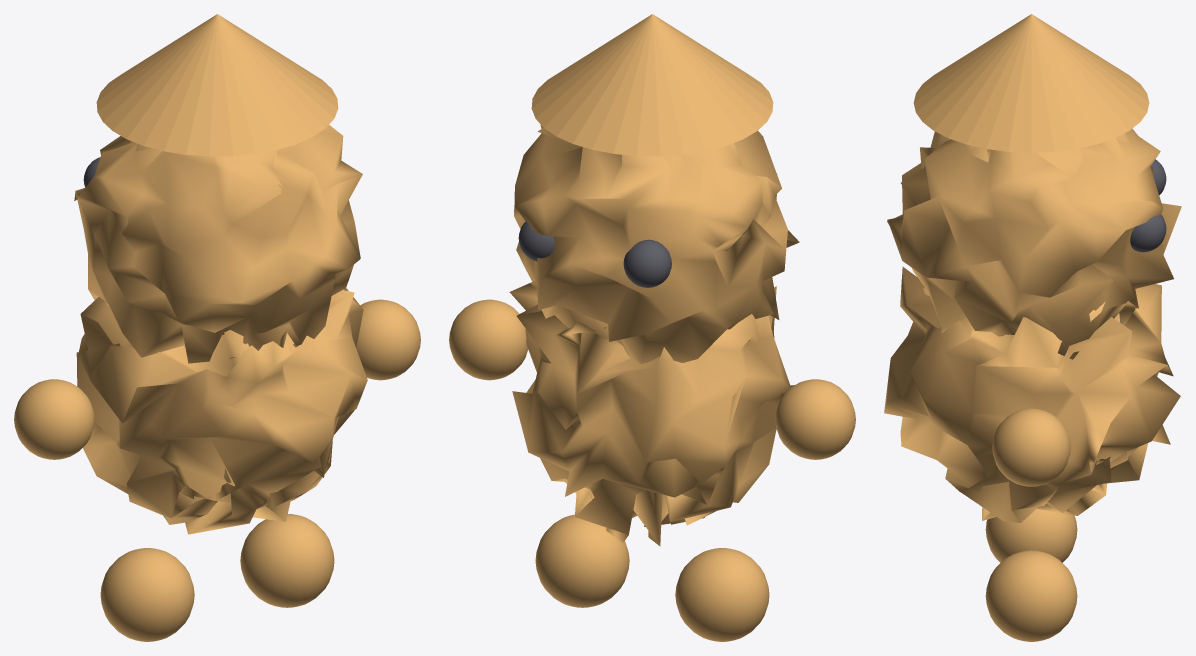
File: clay_crayon_creature.glb
3 views of the same model, side by side, from view 1: azimuth 30°, elevation 25°; view 2: azimuth 150°, elevation 25°; view 3: azimuth 270°, elevation 25° (orthographic). The views are drawn at different scales.
Visible parts, largest first — view 1: crayontip; view 2: crayontip; view 3: crayontip.
Part boxes in pixels (x1,y1,x2,y2): crayontip: (14,14,420,641); crayontip: (449,14,855,641); crayontip: (884,14,1181,641).
Size of the model in its own units: 1.36 by 1.99 by 0.9098.
